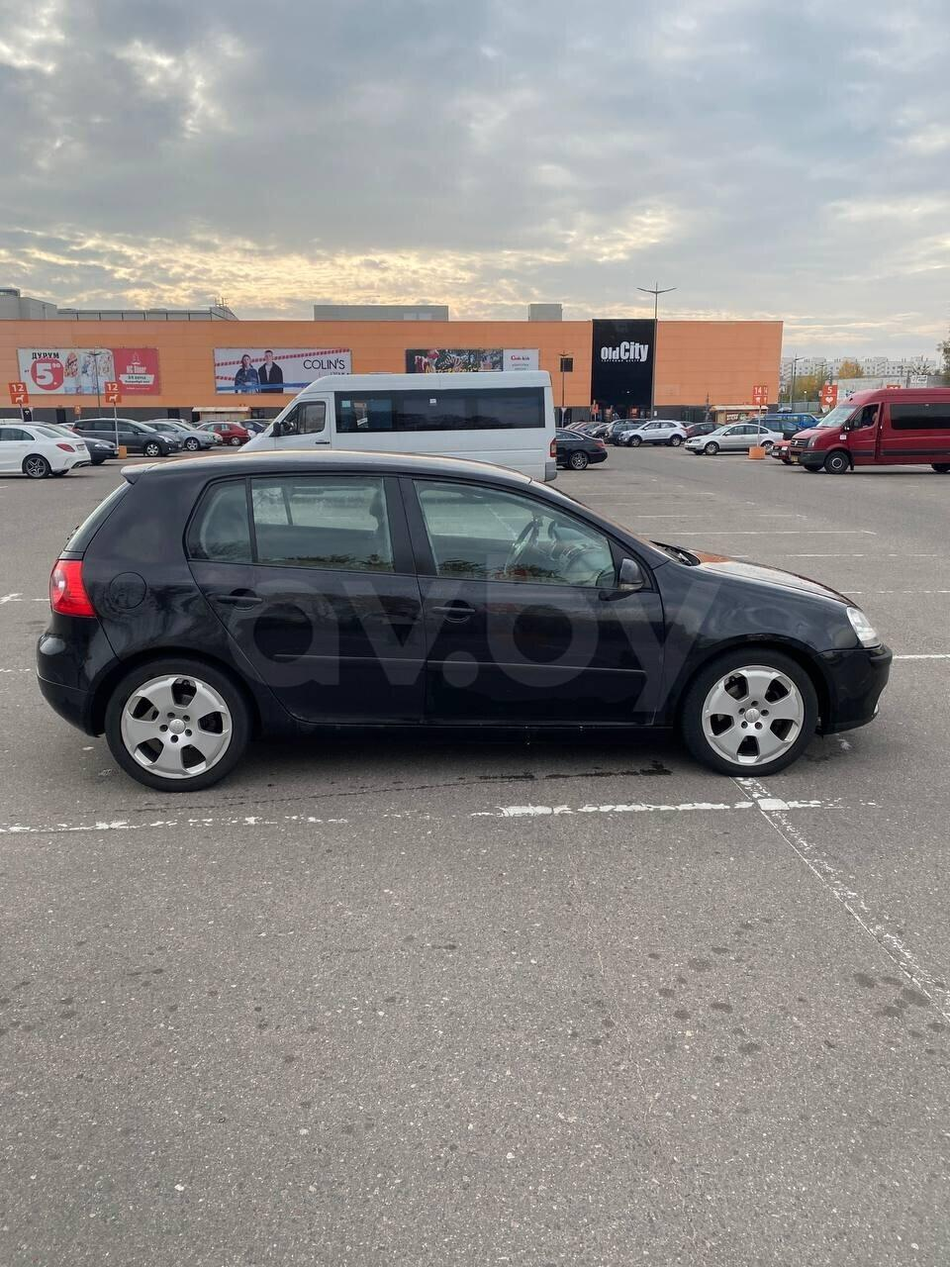Golf_2003-2009: (35, 450, 889, 798)
